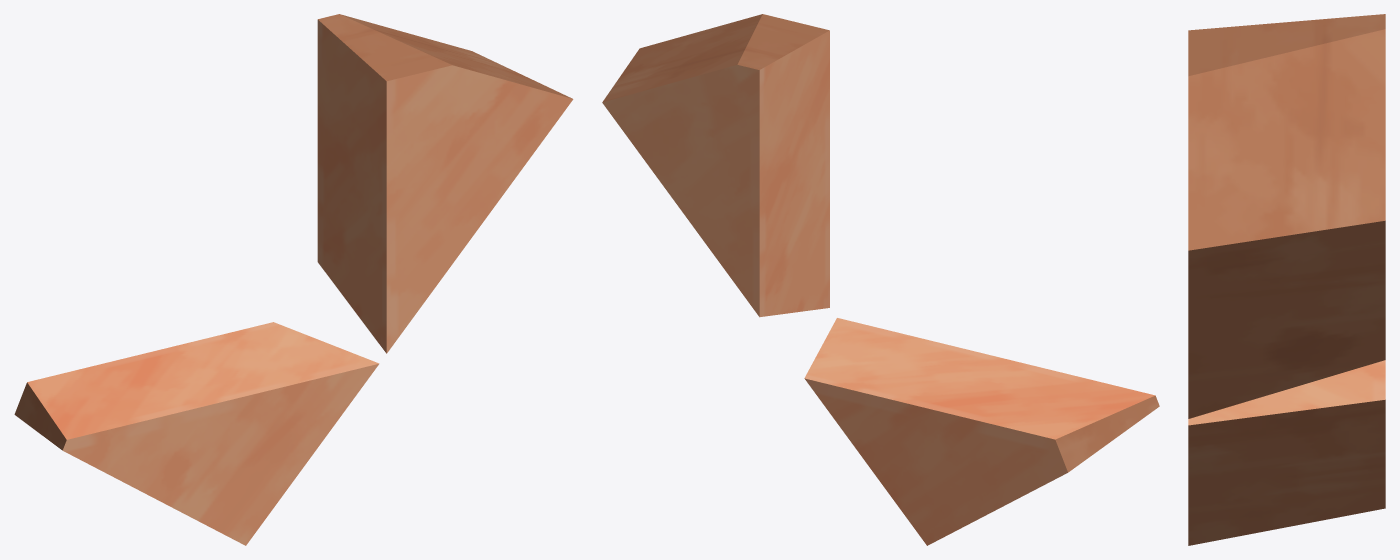
File: wall_upper_window_s00.fbx
3 views of the same model, side by side, from view 1: azimuth 30°, elevation 25°; view 2: azimuth 150°, elevation 25°; view 3: azimuth 270°, elevation 25° (orthographic). The views are drawn at different scales.
Parts seen in each view (by area): view 1: wall_upper_window_s00; view 2: wall_upper_window_s00; view 3: wall_upper_window_s00.
Boxes of the visible parts, x1,y1,x2,y2 form: wall_upper_window_s00: [14, 14, 573, 545]; wall_upper_window_s00: [602, 14, 1159, 545]; wall_upper_window_s00: [1188, 14, 1385, 545].
Size of the model in its own units: 4.27 by 3.53 by 1.
